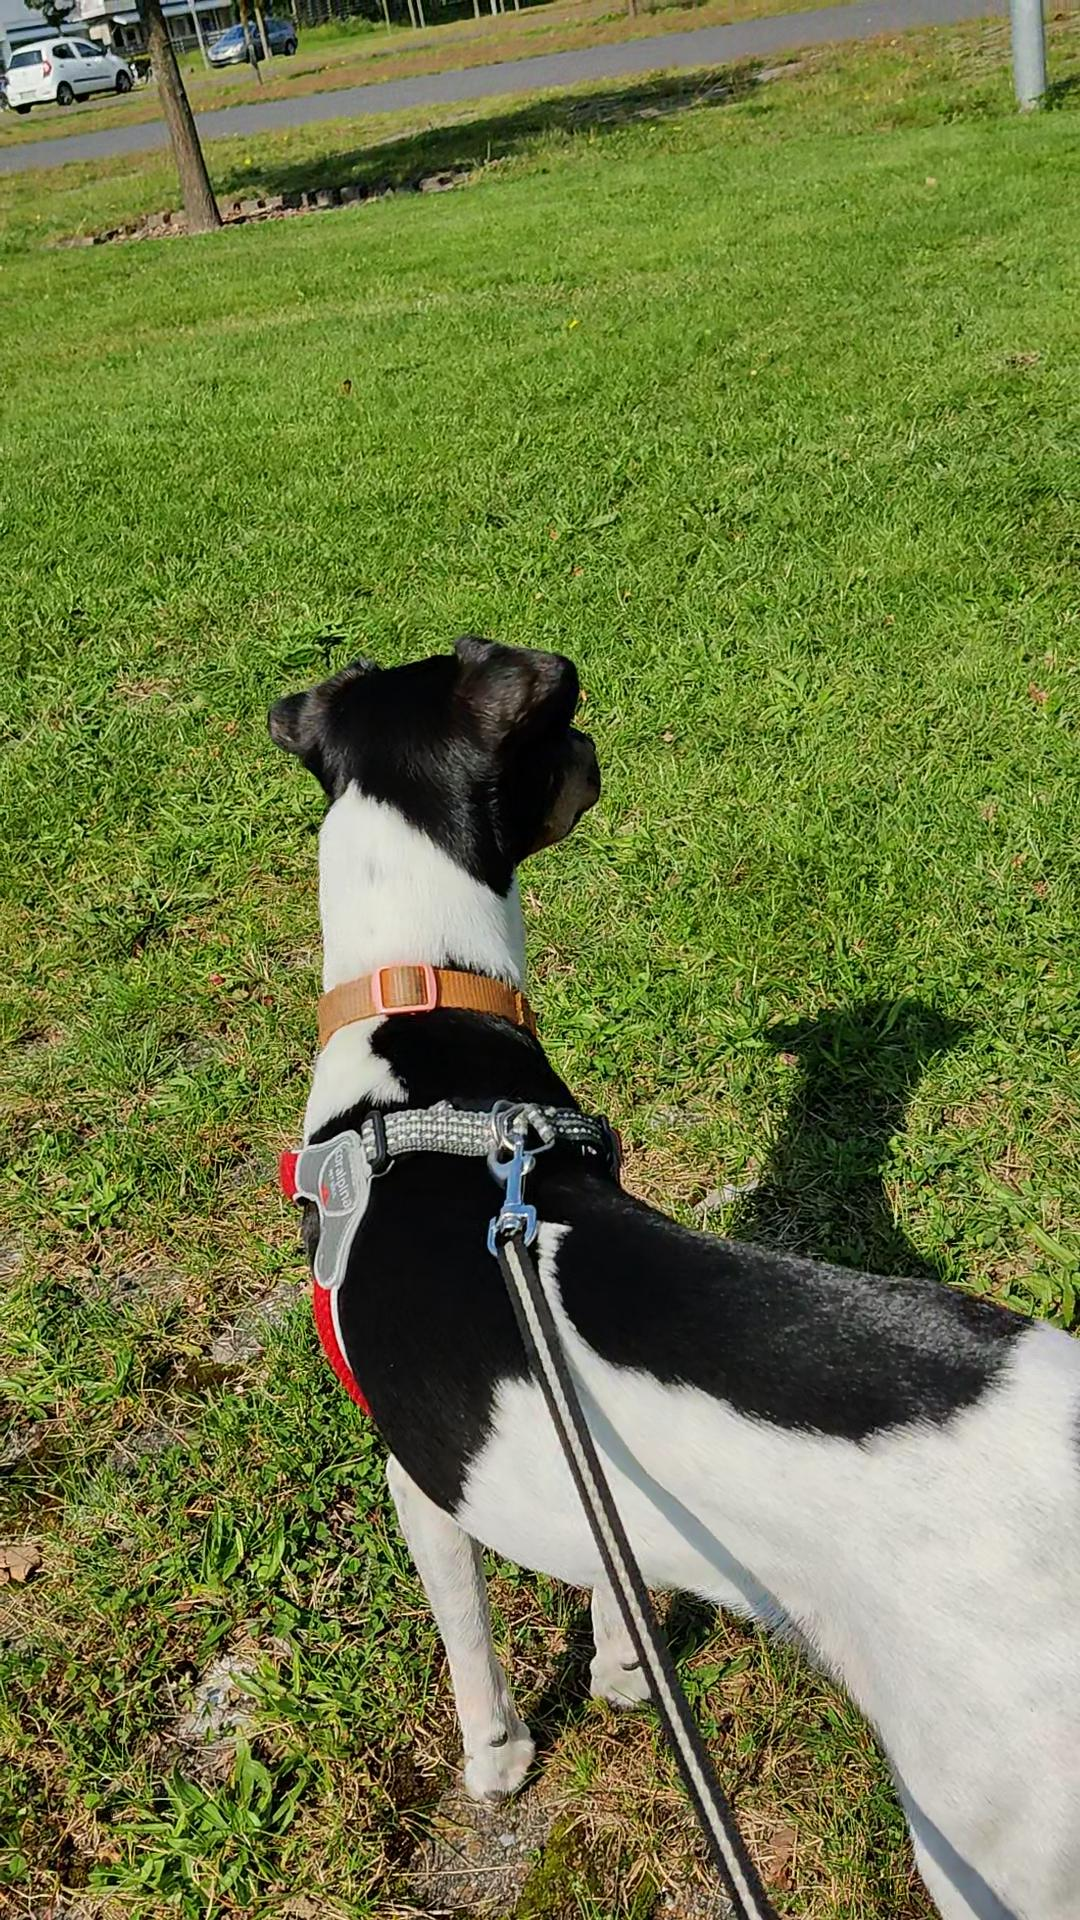Dog: (231, 607, 1079, 1919)
